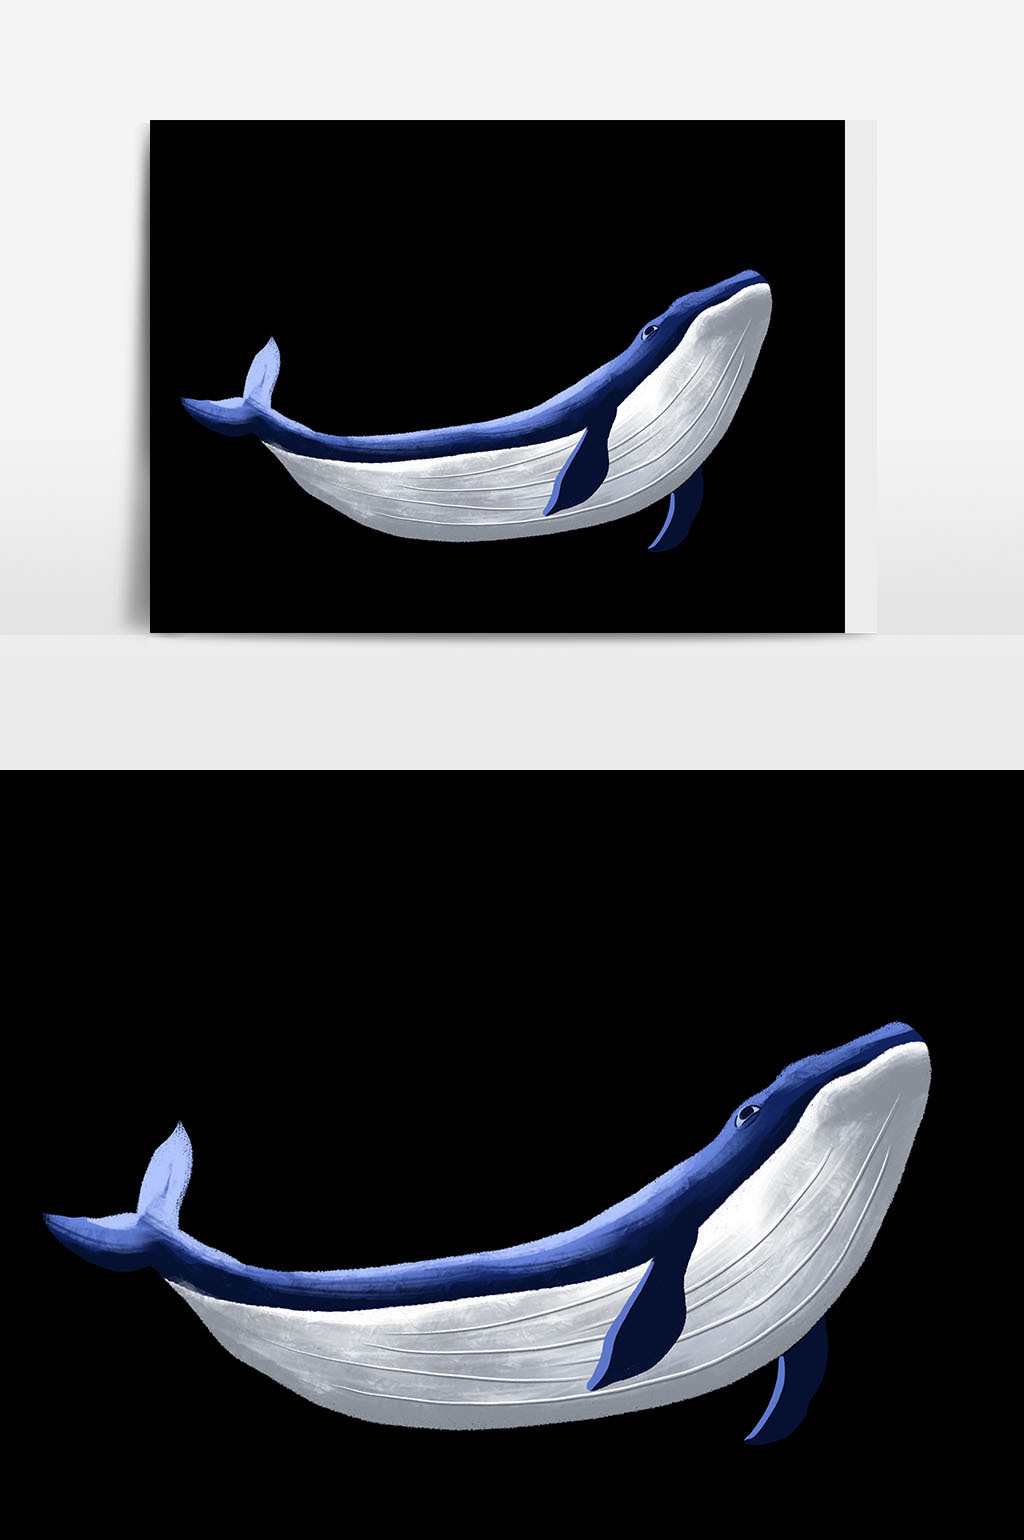fish: (35, 1018, 938, 1447), (181, 259, 779, 561)
